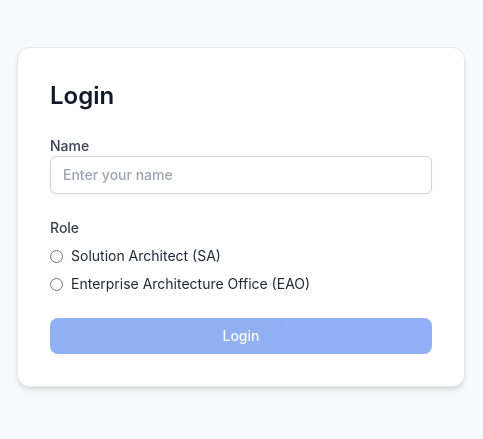
Test: Login Component › displays error message on login failure
Type "John Doe" into the field labelled "Name" at (241,175), box x1=50 y1=156 x2=432 y2=194
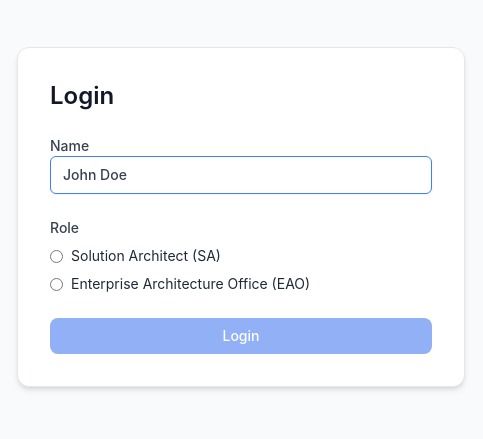
Click the radio button labelled "Solution Architect (SA)" at (56,256), box x1=50 y1=250 x2=63 y2=262
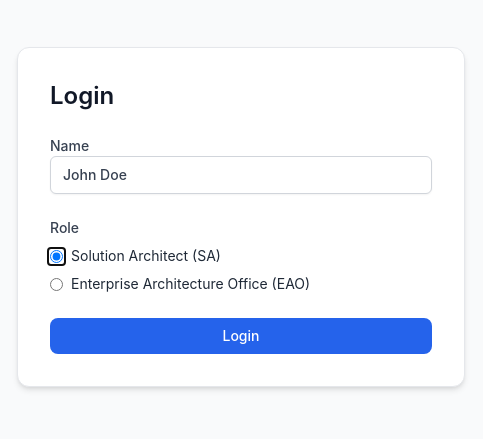
Click the button "Login" at (241,336), box x1=50 y1=318 x2=432 y2=354
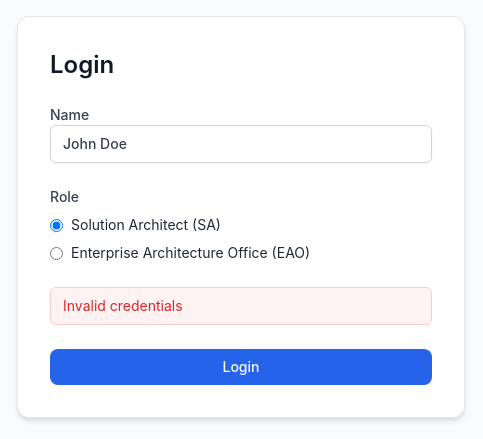
Now the text "Invalid credentials" is shown, box x1=50 y1=287 x2=432 y2=325
